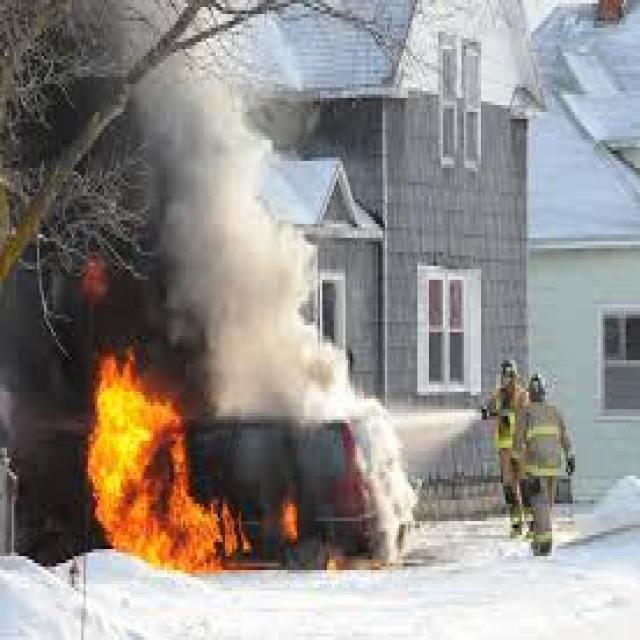Fire: (86, 346, 252, 574), (282, 495, 300, 544)
Smoke: (163, 0, 384, 409), (300, 410, 418, 566)
